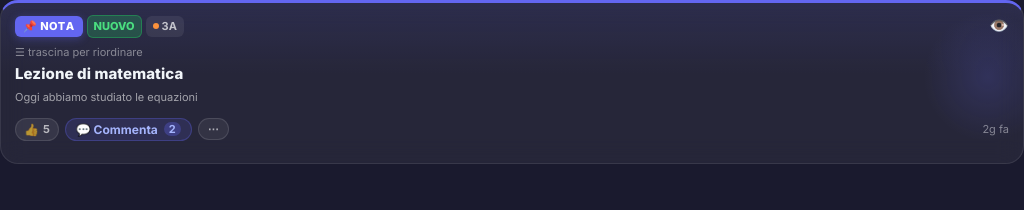
Scenario: CardItem › mostra le reazioni solo dopo il toggle "Altre azioni"
Expected: the text "🤔" is not shown
Click the button named "Altre azioni": (213, 129) [198,118,229,140]
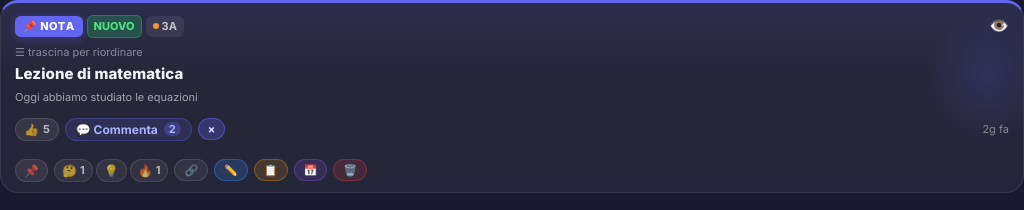
Expected: the button named "Altre azioni" is expanded, [198,118,225,140]
Expected: the button "🤔 1" is shown, [54,159,93,182]
Expected: the button "💡" is shown, [96,159,127,182]
